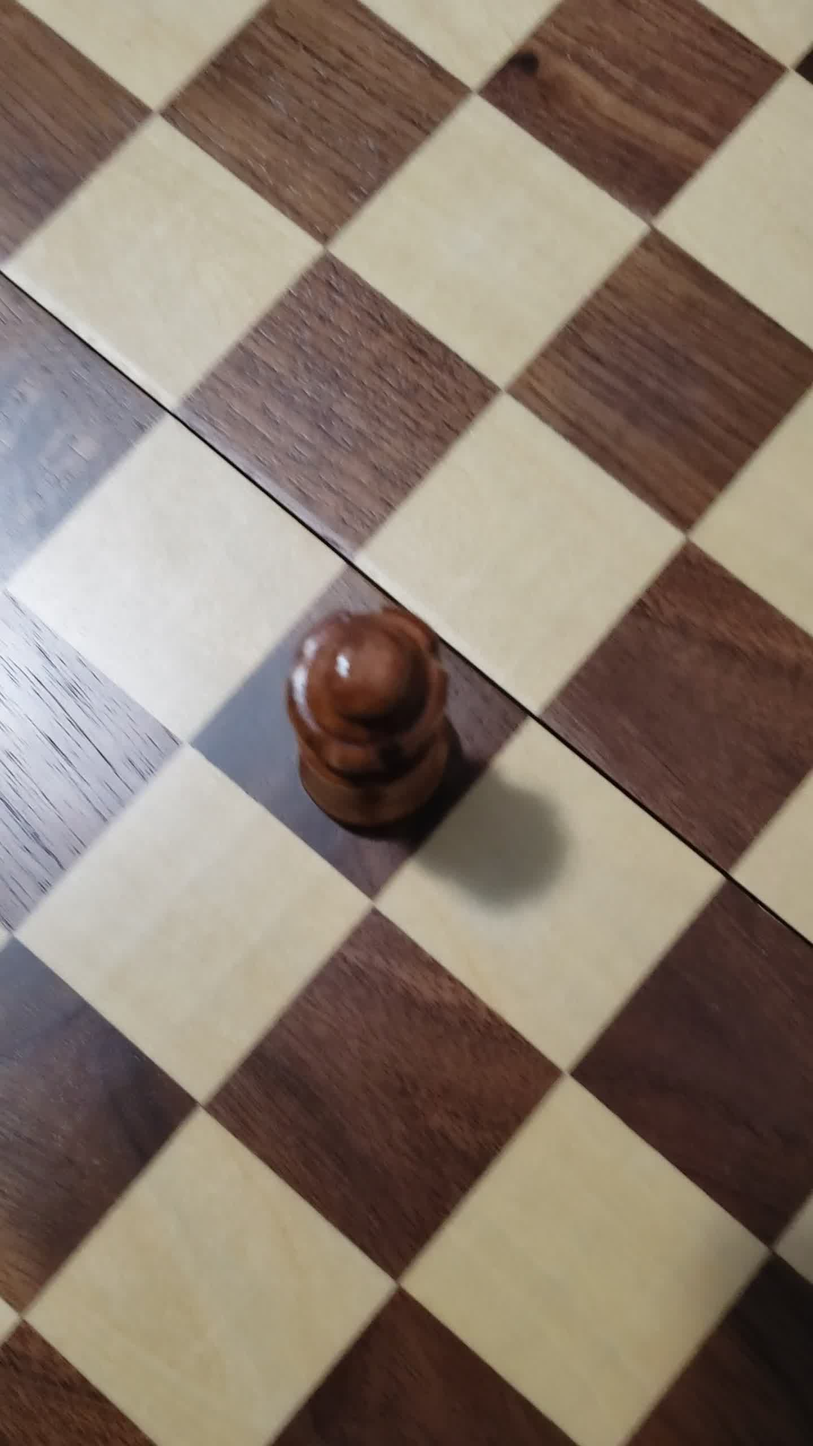black-queen: (246, 585, 494, 845)
